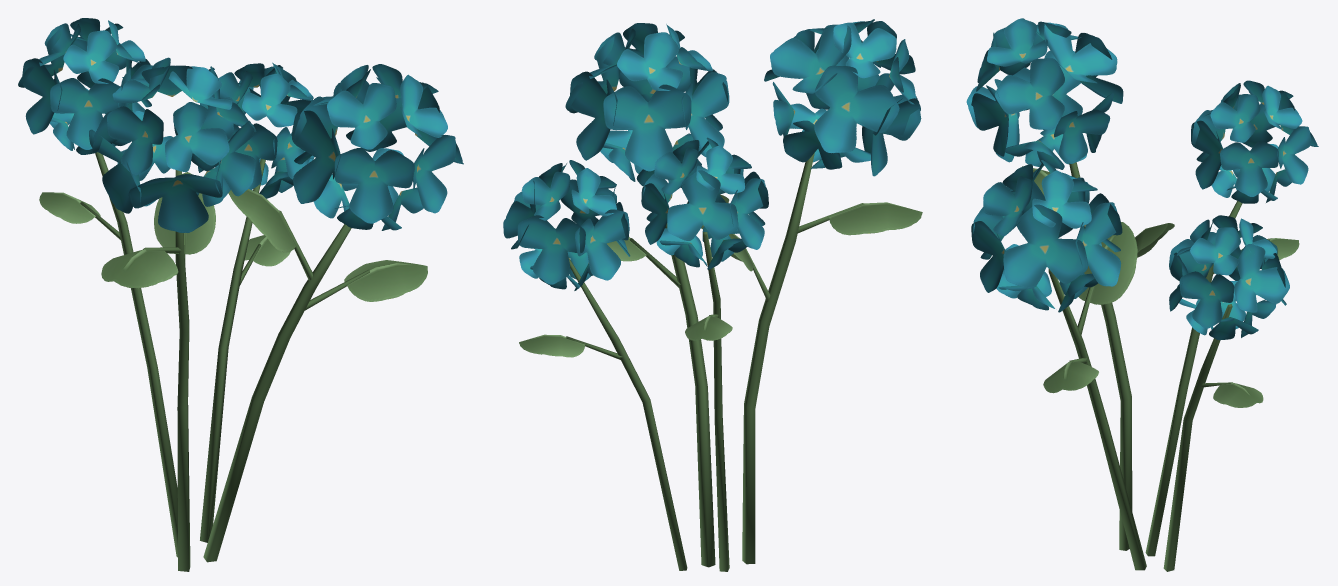
Rendered from Flower_1_Clump.glb.
The picture shows the model from 3 angles, left to right: view 1: azimuth 30°, elevation 25°; view 2: azimuth 150°, elevation 25°; view 3: azimuth 270°, elevation 25°; orthographic projection. The views are drawn at different scales.
Visible parts, largest first — view 1: Flower_1_Clump; view 2: Flower_1_Clump; view 3: Flower_1_Clump.
Part boxes in pixels (x1,y1,x2,y2): Flower_1_Clump: [18, 18, 463, 571]; Flower_1_Clump: [503, 19, 922, 571]; Flower_1_Clump: [966, 18, 1318, 571].
Size of the model in its own units: 0.4711 by 0.6713 by 0.4352.
Materials: 1 (1 with a texture image).
